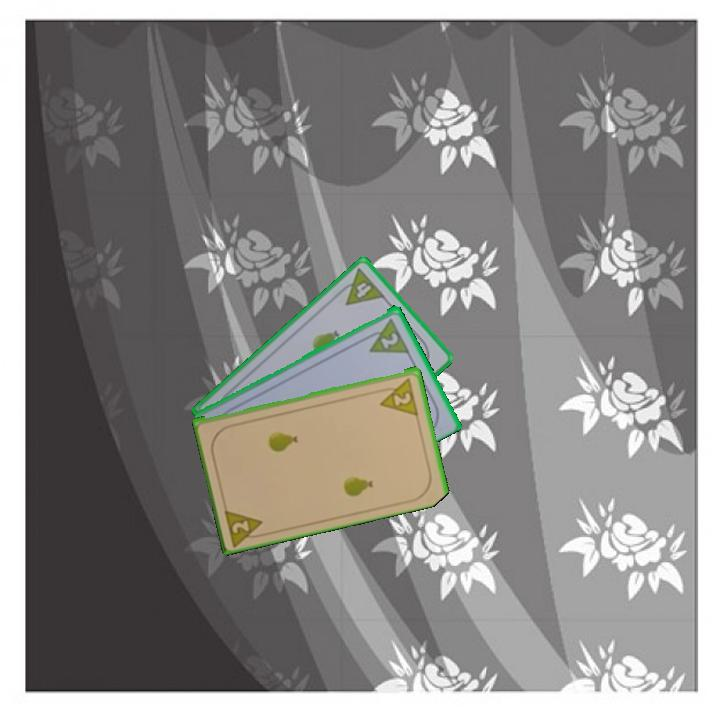2p: (360, 314, 412, 356), (221, 503, 269, 547), (375, 374, 421, 417)
4p: (333, 265, 388, 308)
